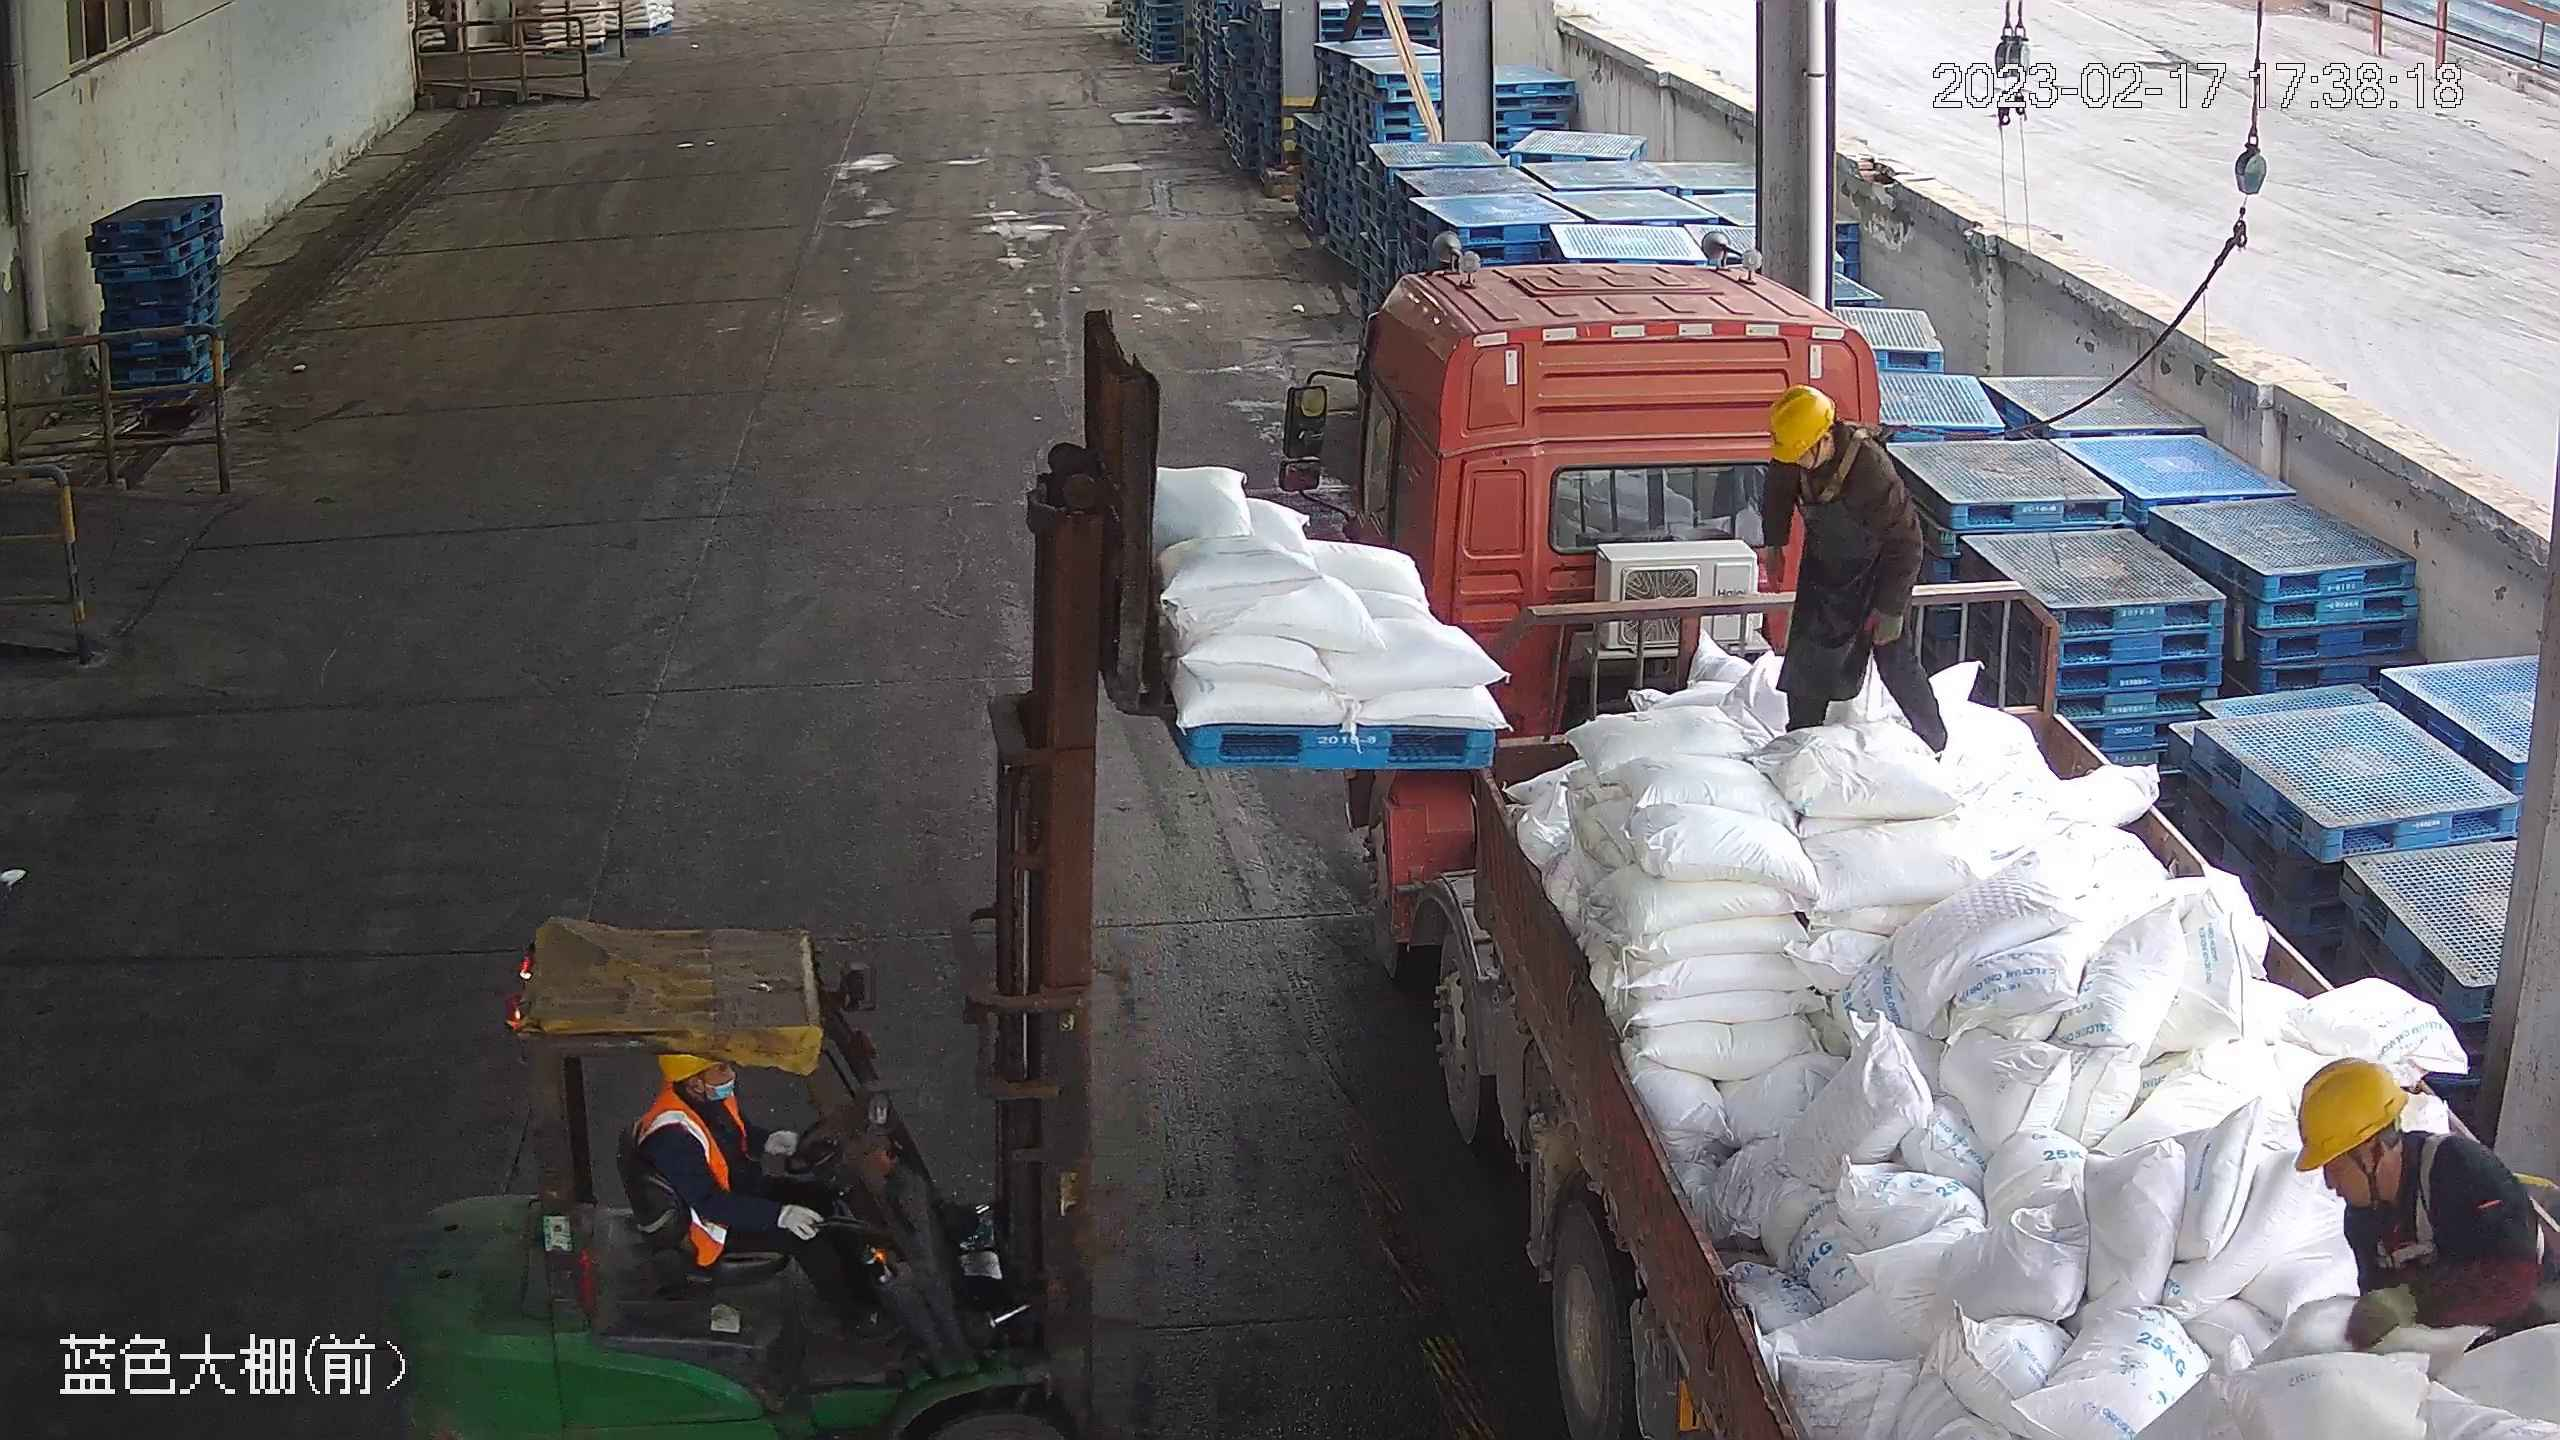belt: (2365, 1131, 2451, 1272), (1810, 408, 1899, 498)
head: (2286, 1053, 2503, 1231), (1760, 382, 1904, 518), (631, 1047, 760, 1166)
helmet: (2288, 1050, 2414, 1174), (1765, 383, 1838, 463)
people: (1750, 380, 1951, 762), (629, 1043, 862, 1341)
truck: (1298, 203, 2557, 1440)
